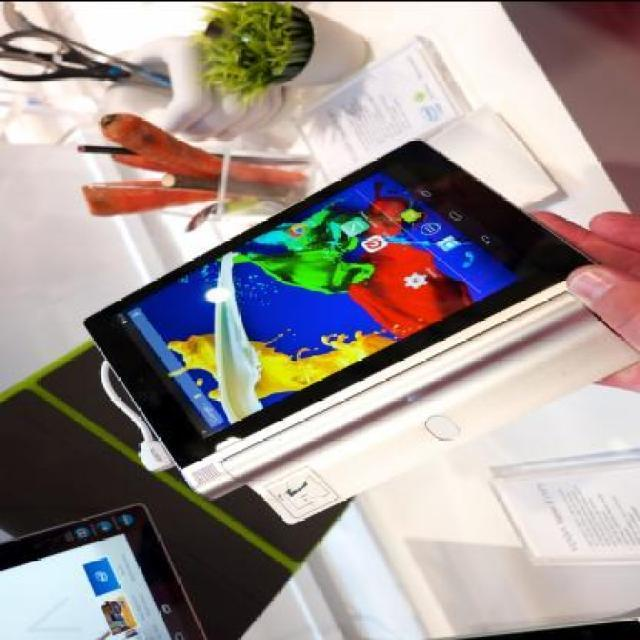phone: (141, 144, 561, 461)
